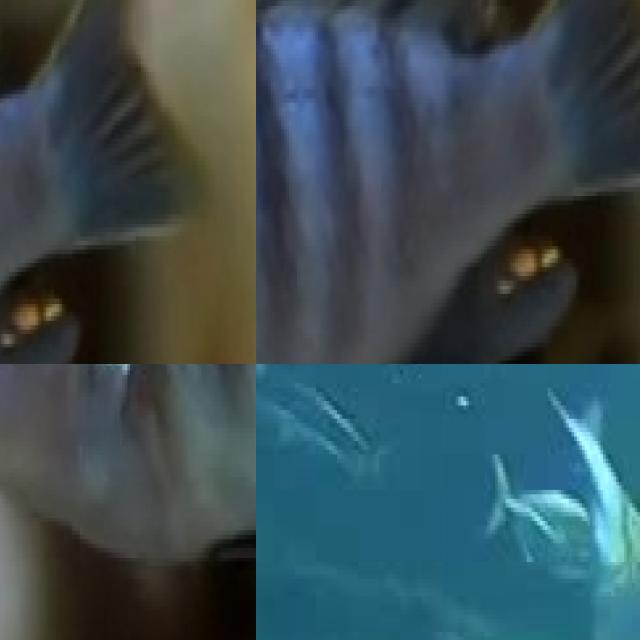fish: (256, 0, 640, 364), (0, 0, 256, 364)
